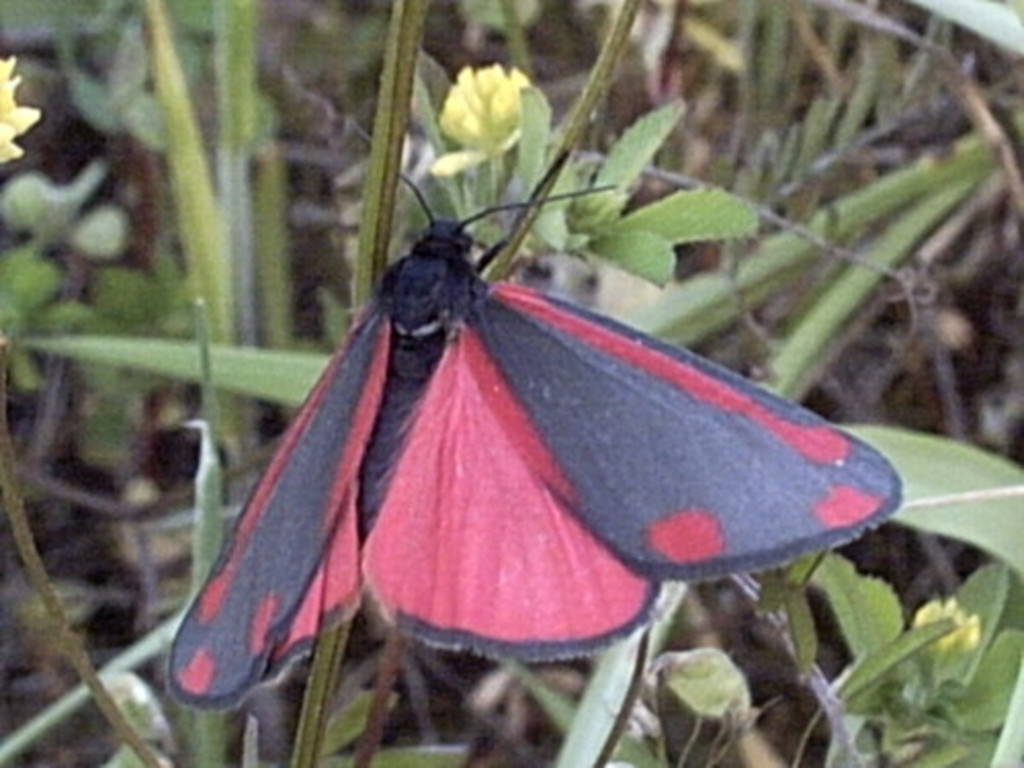Butterfly: (172, 188, 903, 709)
